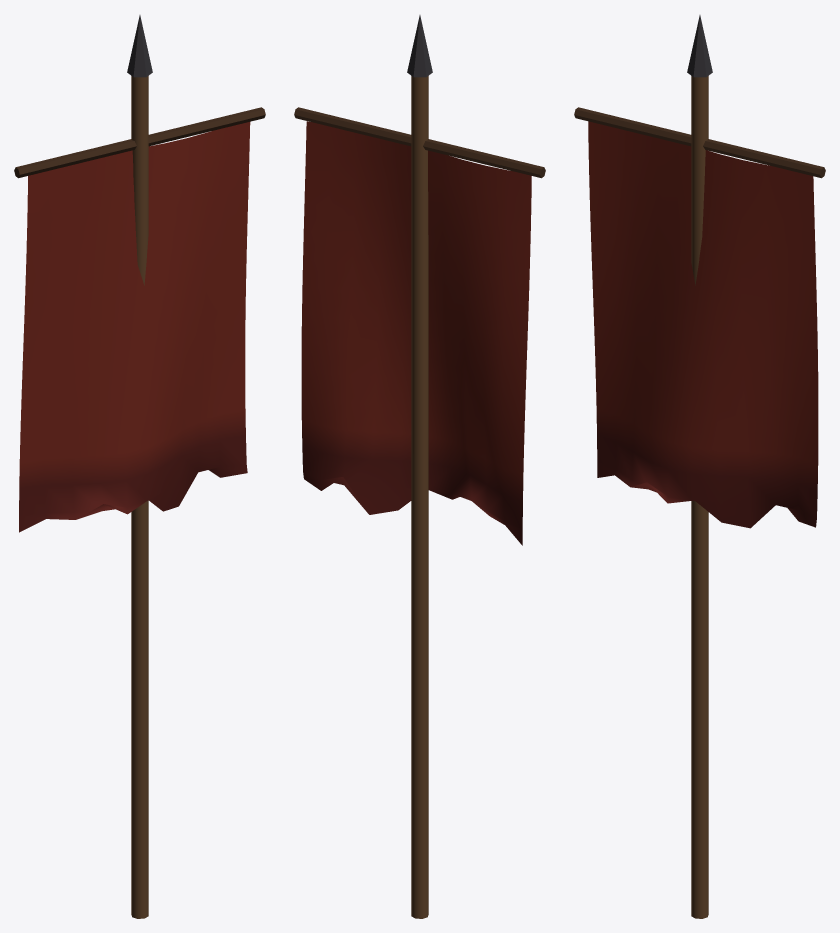
Rendered from war_banner.glb.
The picture shows the model from 3 angles, left to right: view 1: azimuth 30°, elevation 25°; view 2: azimuth 150°, elevation 25°; view 3: azimuth 330°, elevation 25°; orthographic projection.
Visible parts, largest first — view 1: war_banner; view 2: war_banner; view 3: war_banner.
Part boxes in pixels (x1,y1,x2,y2): war_banner: (14,15,265,918); war_banner: (294,15,545,918); war_banner: (574,15,825,918).
Size of the model in its own units: 1.1 by 3.85 by 0.1532.
